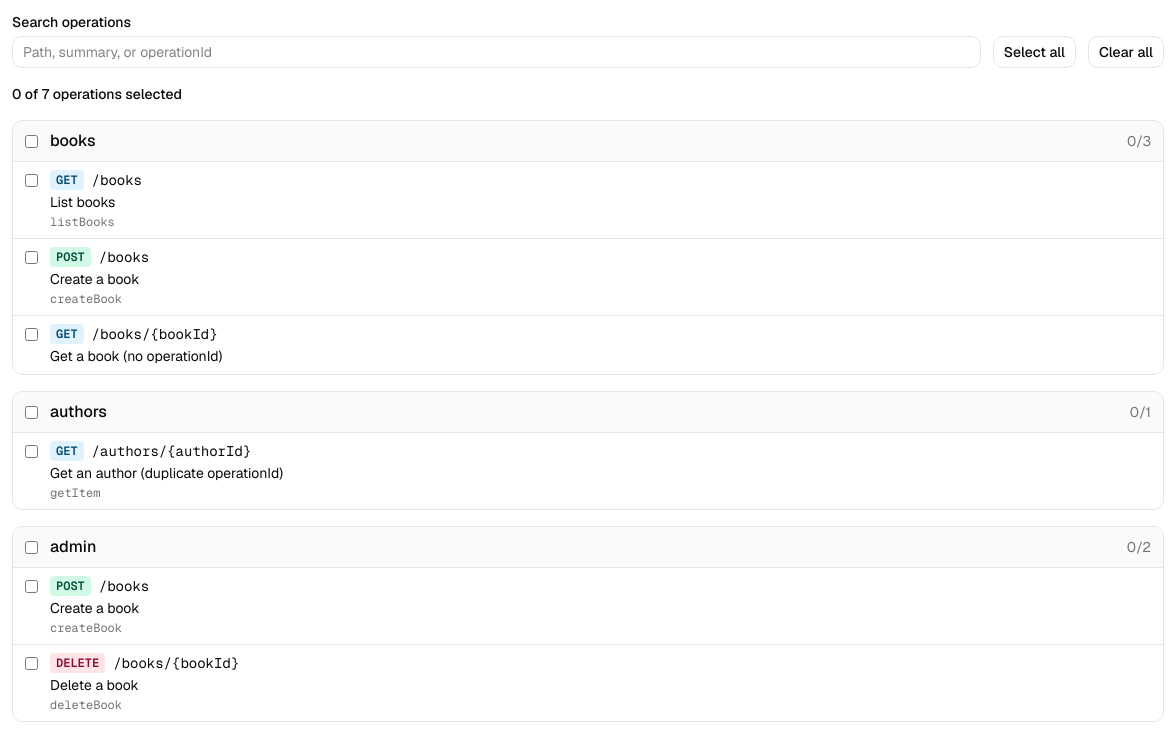
Test: OperationSelector › selects and clears all operations
This screenshot has width=1176, height=732.
Click the button "Select all": click(1034, 52) left=993, top=36, right=1076, bottom=68
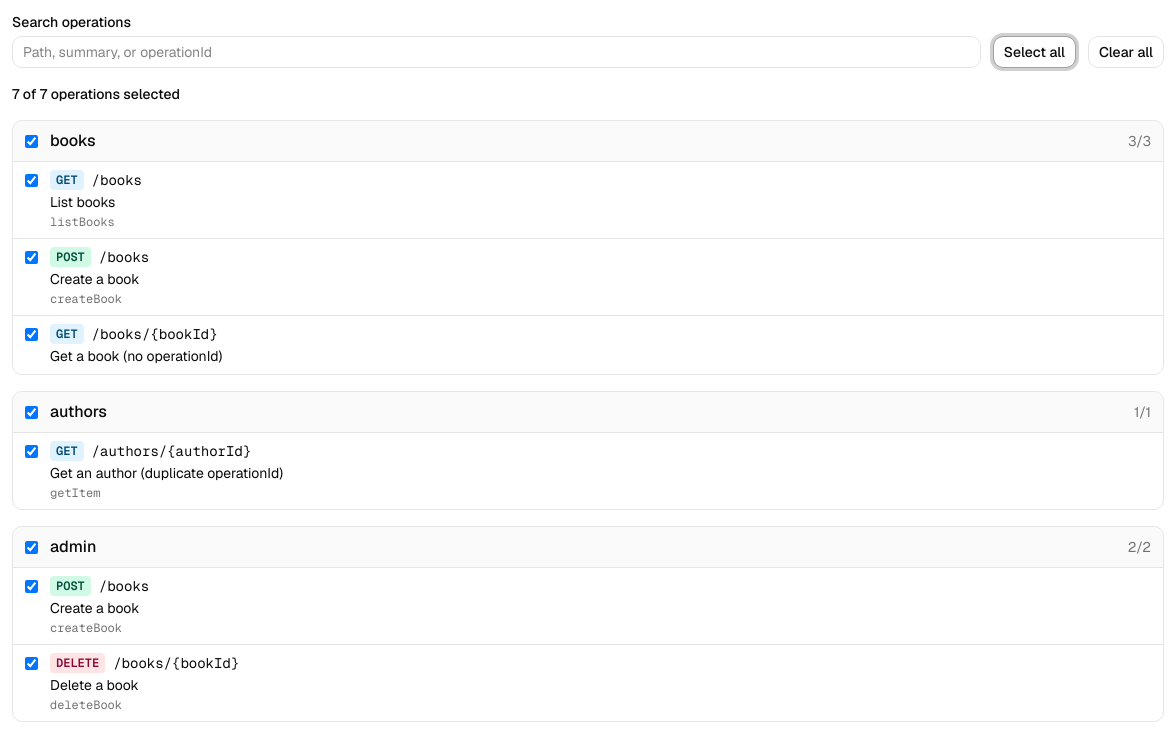
Now the message reads "7 of 7 operations selected", box left=12, top=85, right=180, bottom=103
Now the checkbox labelled "books" is checked, box left=25, top=134, right=38, bottom=148
Now the checkbox labelled "get /books List books listBooks" is checked, box left=25, top=174, right=38, bottom=187
Click the button "Clear all": click(1126, 52) left=1088, top=36, right=1164, bottom=68
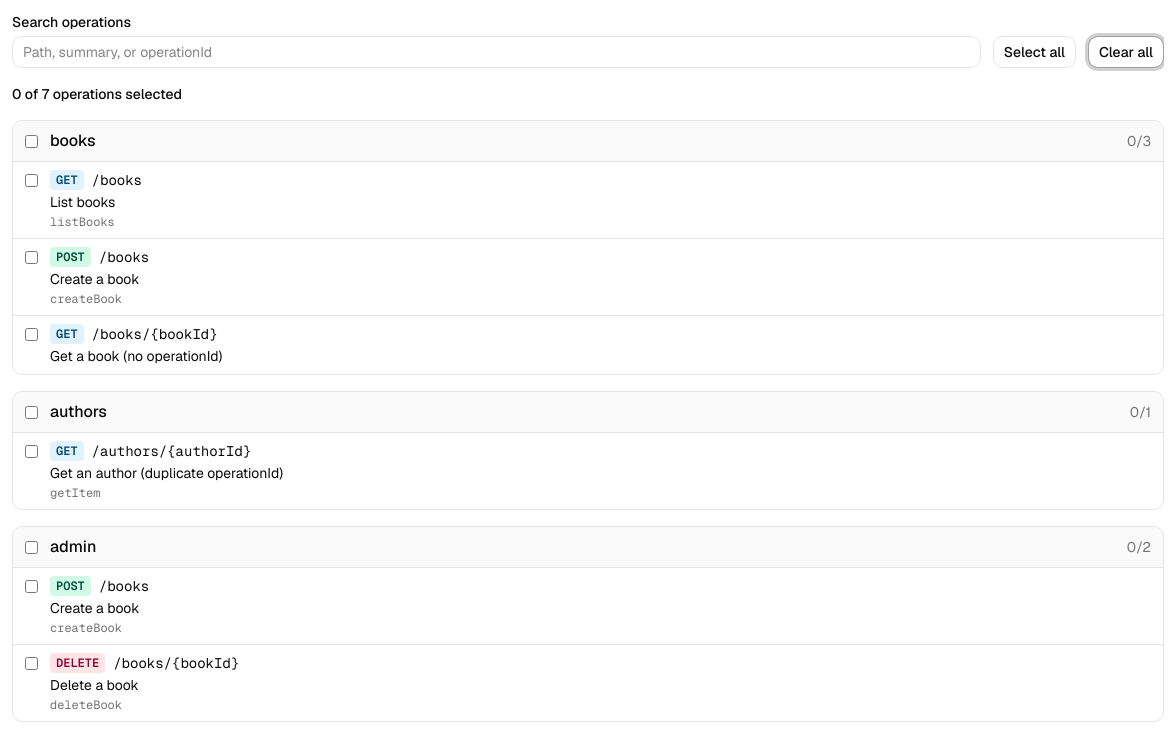
Now the message reads "0 of 7 operations selected", box left=12, top=85, right=182, bottom=103
